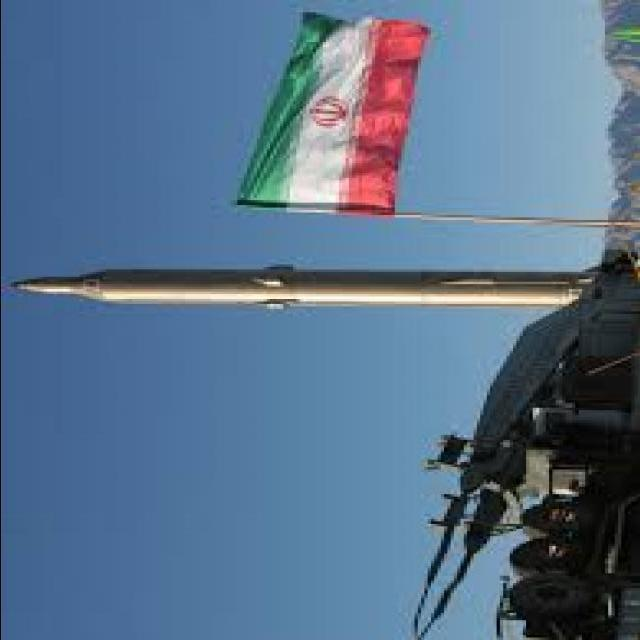Missile: (14, 265, 589, 311)
